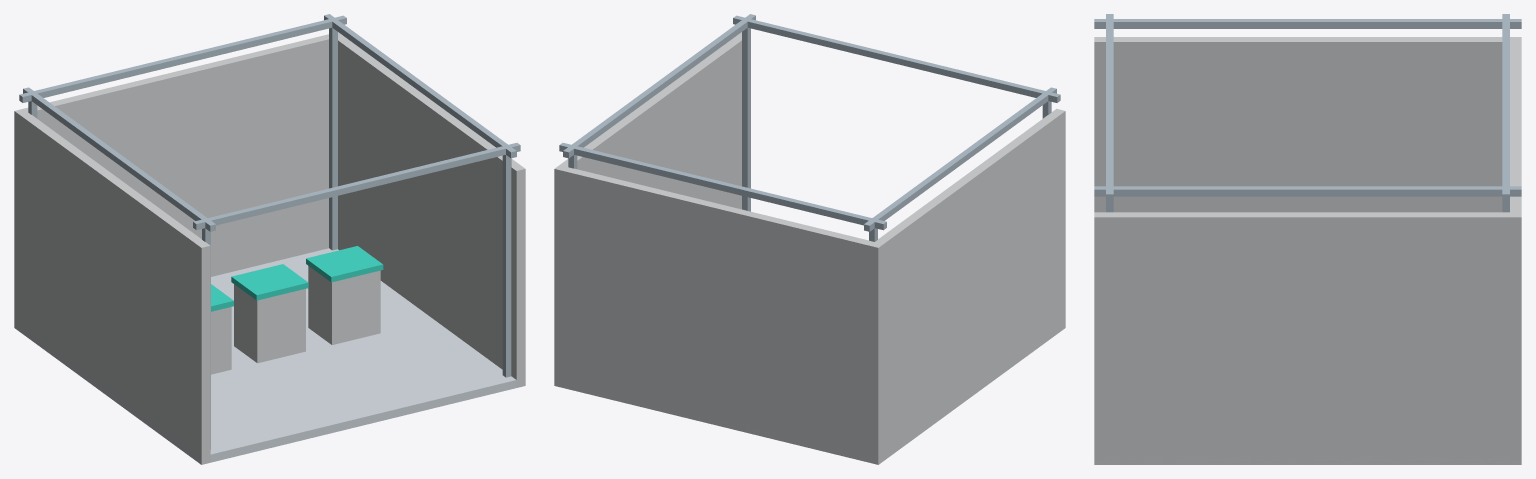
The picture shows the model from 3 angles, left to right: view 1: azimuth 30°, elevation 25°; view 2: azimuth 150°, elevation 25°; view 3: azimuth 270°, elevation 25°; orthographic projection. The views are drawn at different scales.
Visible parts, largest first — view 1: Exhibition Booth Concept; view 2: Exhibition Booth Concept; view 3: Exhibition Booth Concept.
Boxes of the visible parts, <box> form: Exhibition Booth Concept: <box>14,14,525,464</box>; Exhibition Booth Concept: <box>554,14,1065,464</box>; Exhibition Booth Concept: <box>1094,14,1521,464</box>.
Size of the model in its own units: 5 by 3.49 by 5.
